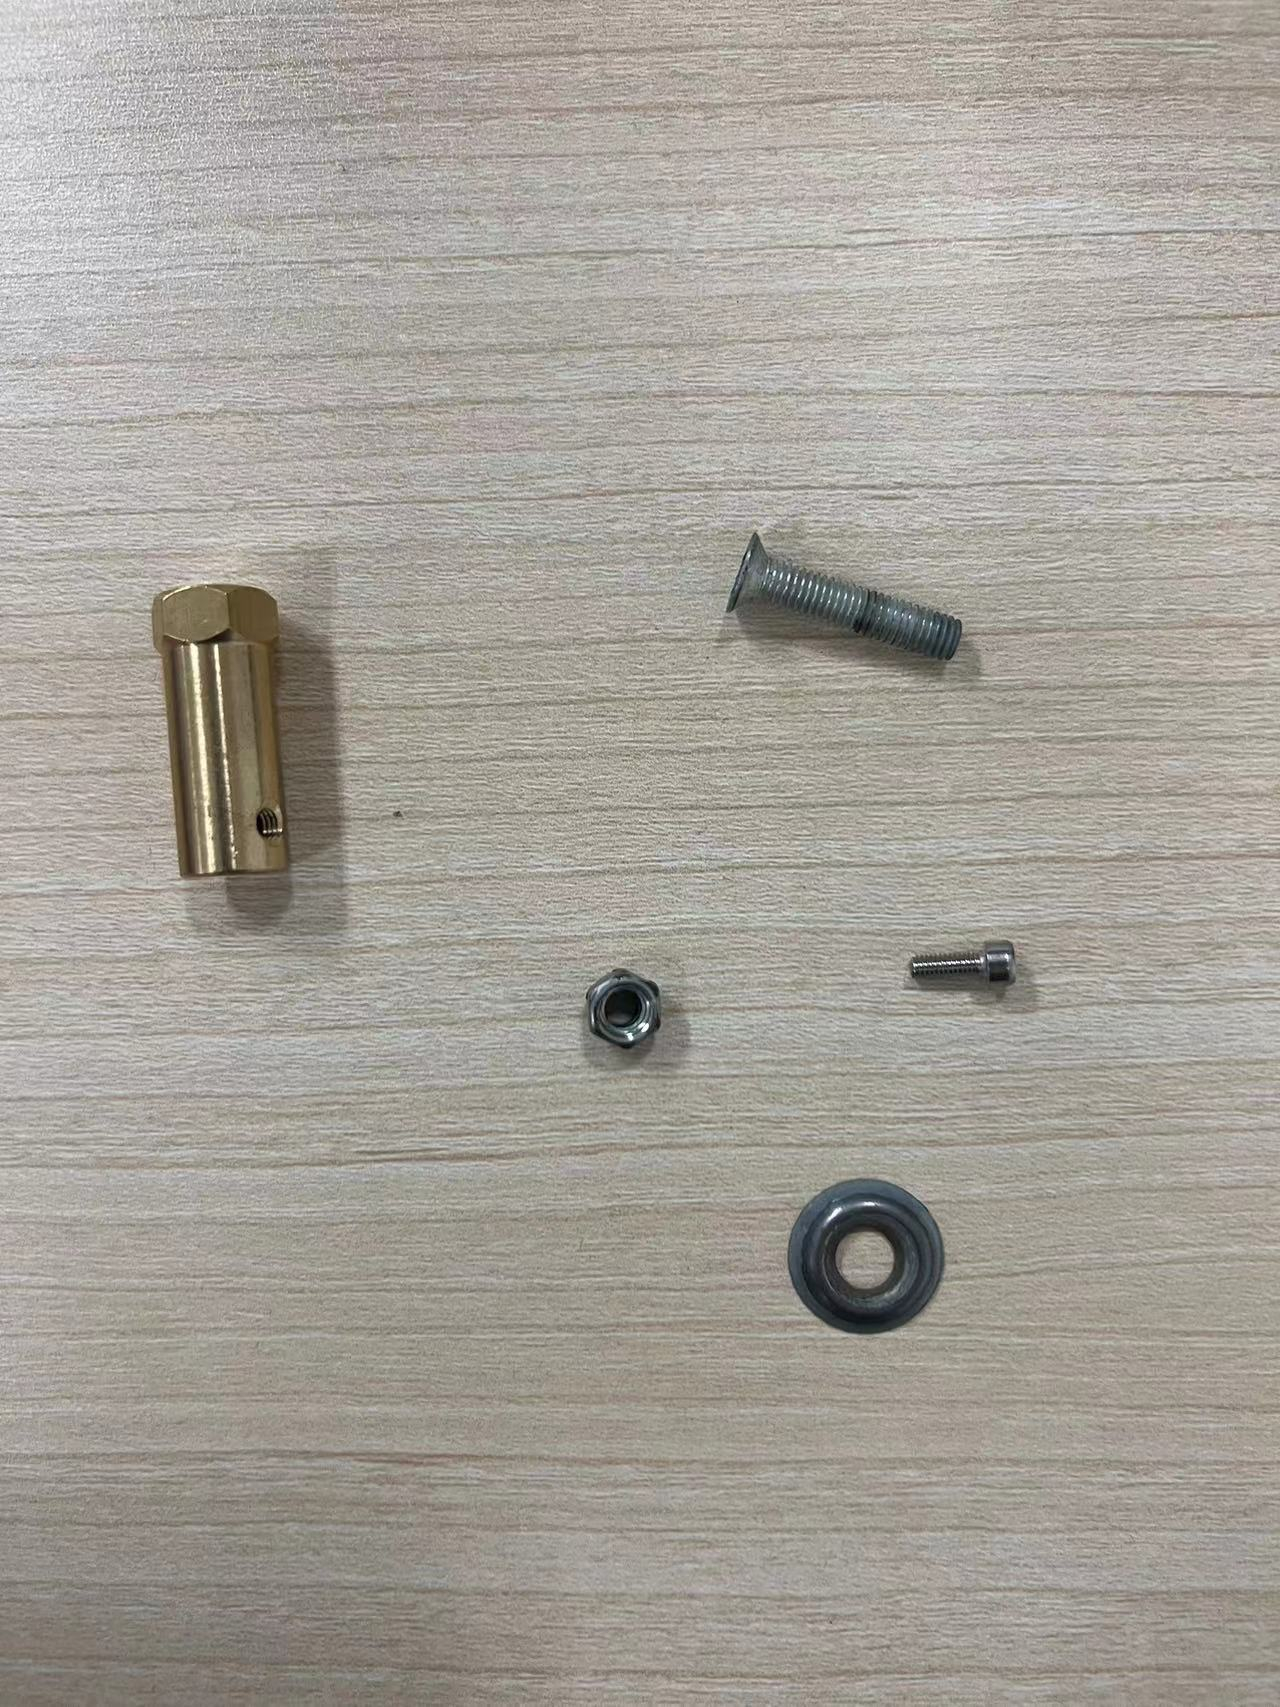Hexagon nut: (559, 957, 683, 1057)
Hexagon pillar: (127, 568, 323, 903)
Round head screw: (703, 519, 991, 681), (901, 917, 1044, 1019)
Spring washer: (772, 1168, 959, 1345)
